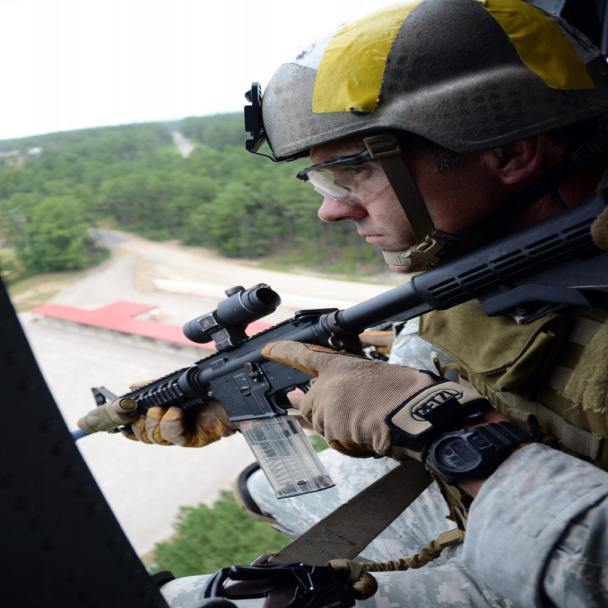Gun: (38, 195, 607, 463)
Hand: (262, 323, 476, 473), (85, 383, 243, 455)
